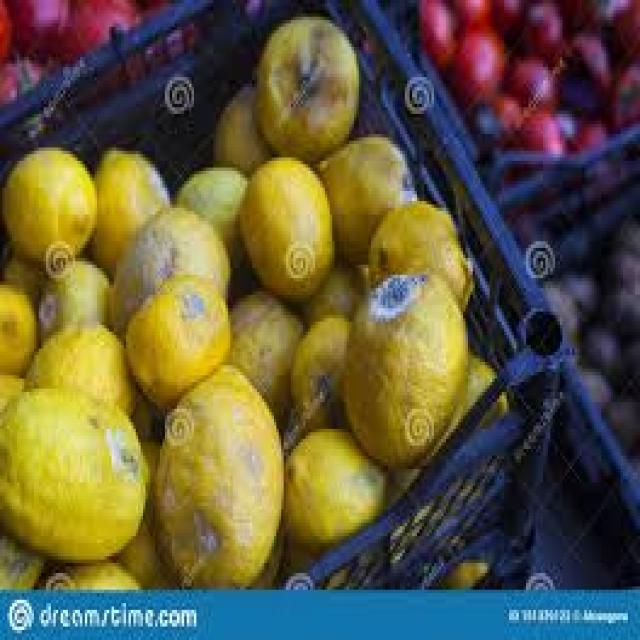organic waste: (160, 359, 281, 583), (0, 382, 145, 563), (340, 265, 466, 469), (116, 436, 279, 586), (250, 10, 356, 158), (104, 201, 228, 312), (238, 154, 330, 302), (318, 131, 414, 268), (282, 419, 386, 543), (87, 140, 170, 274), (24, 318, 136, 416), (0, 144, 95, 258), (226, 288, 300, 419), (167, 164, 245, 288), (55, 0, 138, 90), (286, 312, 349, 426), (34, 254, 116, 338), (208, 80, 276, 168), (448, 20, 512, 101), (449, 348, 509, 432), (296, 261, 371, 325), (0, 50, 53, 137), (7, 0, 75, 57), (504, 43, 565, 104), (34, 553, 141, 586), (565, 23, 613, 94), (412, 0, 458, 74), (509, 100, 575, 151), (0, 278, 34, 375), (135, 0, 189, 60), (512, 0, 570, 54), (598, 57, 638, 134), (594, 0, 638, 64), (468, 90, 519, 141), (545, 268, 582, 335), (0, 247, 48, 298), (0, 526, 41, 583), (596, 282, 638, 335), (594, 238, 638, 288), (437, 546, 488, 586), (562, 265, 599, 318), (577, 315, 616, 362), (572, 362, 613, 405), (572, 104, 609, 147), (616, 335, 638, 402), (611, 396, 637, 452), (488, 0, 528, 34), (446, 0, 492, 27), (131, 389, 153, 439), (0, 0, 15, 64), (611, 208, 637, 238)
